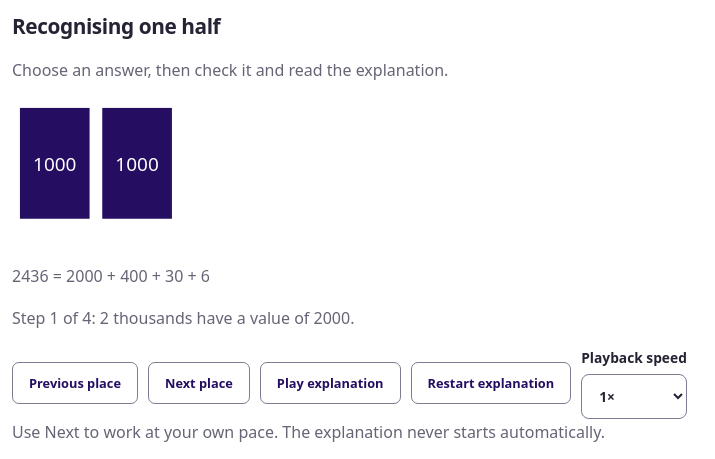
Test: safe interactive teaching content › steps a correct place-value explanation without autoplay and supports play, pause and restart
The width and height of the screenshot is (715, 459).
Expected: the message shows "2 thousands have a value of 2000", [12,307,354,329]
Expected: the message shows "Step 1", [12,307,354,329]
Click the button "Next place".
click(199, 383)  # box [148,362,250,404]
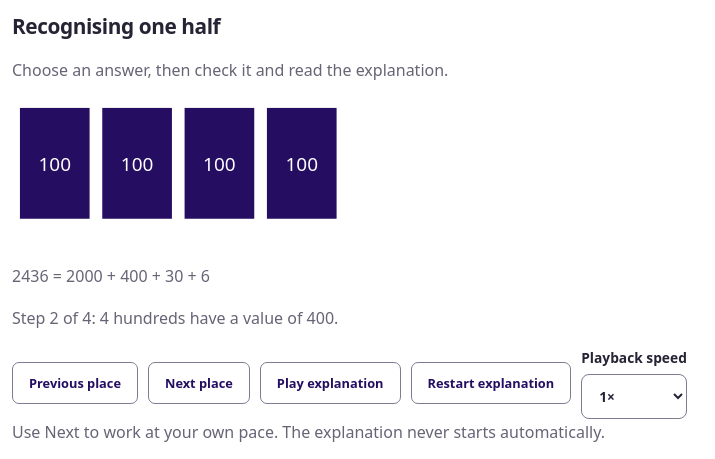
Expected: the message shows "4 hundreds have a value of 400", [12,307,338,329]
Click the button "Play explanation".
click(330, 383)  # box [260,362,400,404]
Wait 2000 ms
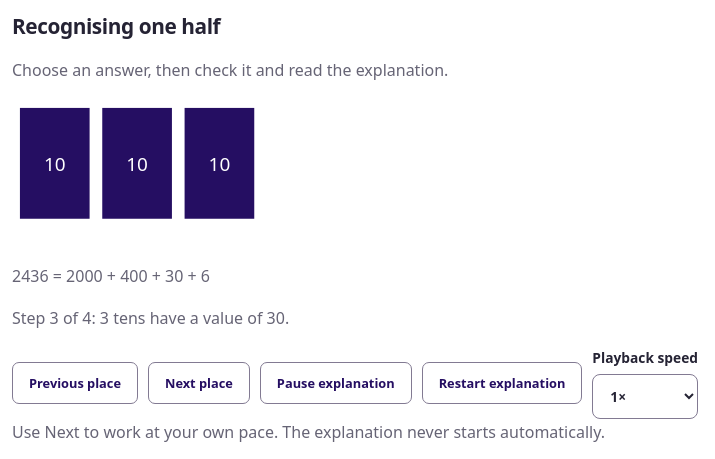
Expected: the message shows "3 tens have a value of 30", [12,307,289,329]
Click the button "Pause explanation".
click(336, 383)  # box [260,362,412,404]
Wait 4000 ms
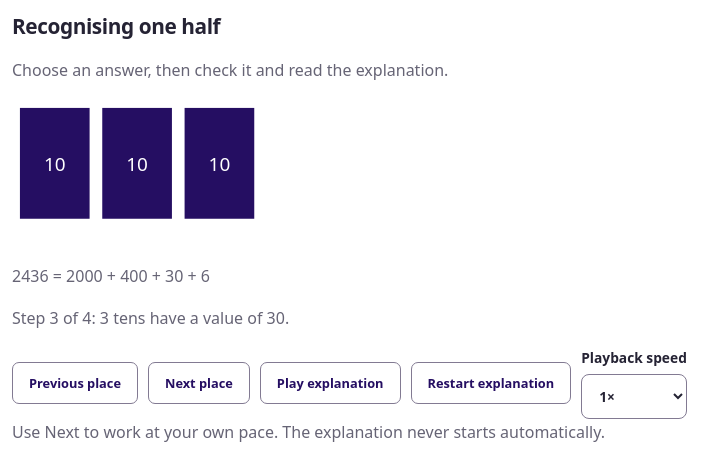
Expected: the message shows "Step 3", [12,307,289,329]
Click the button "Restart explanation".
click(491, 383)  # box [410,362,571,404]
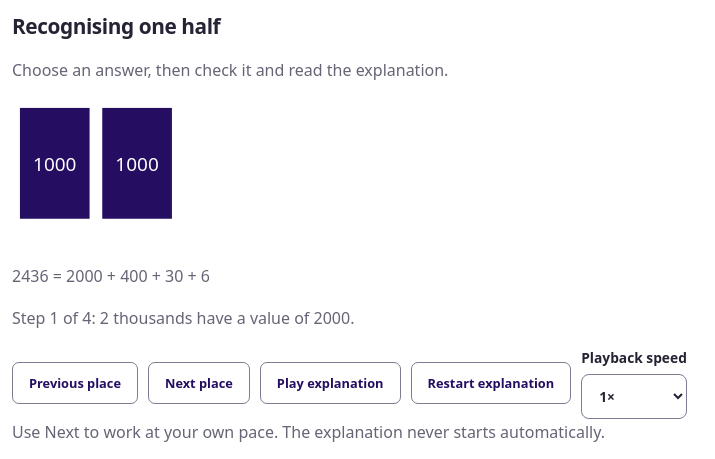
Expected: the message shows "Step 1", [12,307,354,329]
